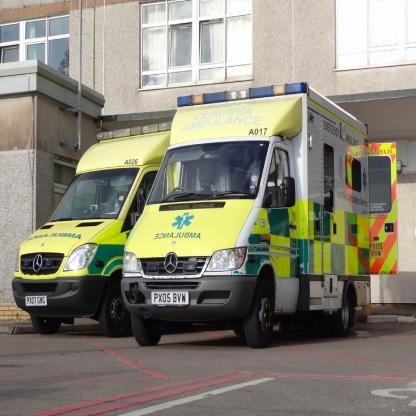Ambulance: (118, 81, 399, 350), (10, 124, 180, 340)
